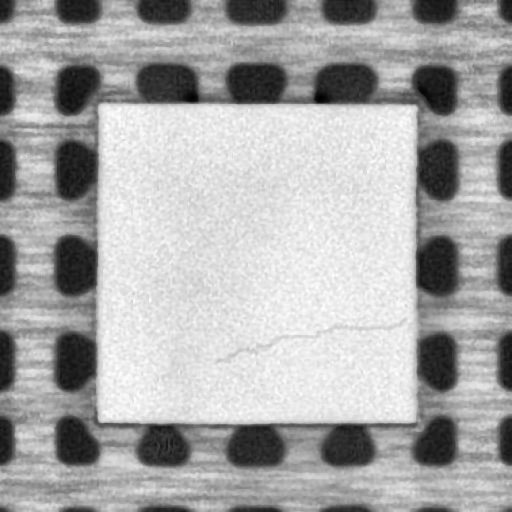DIE_CRACK: (216, 315, 408, 359)
